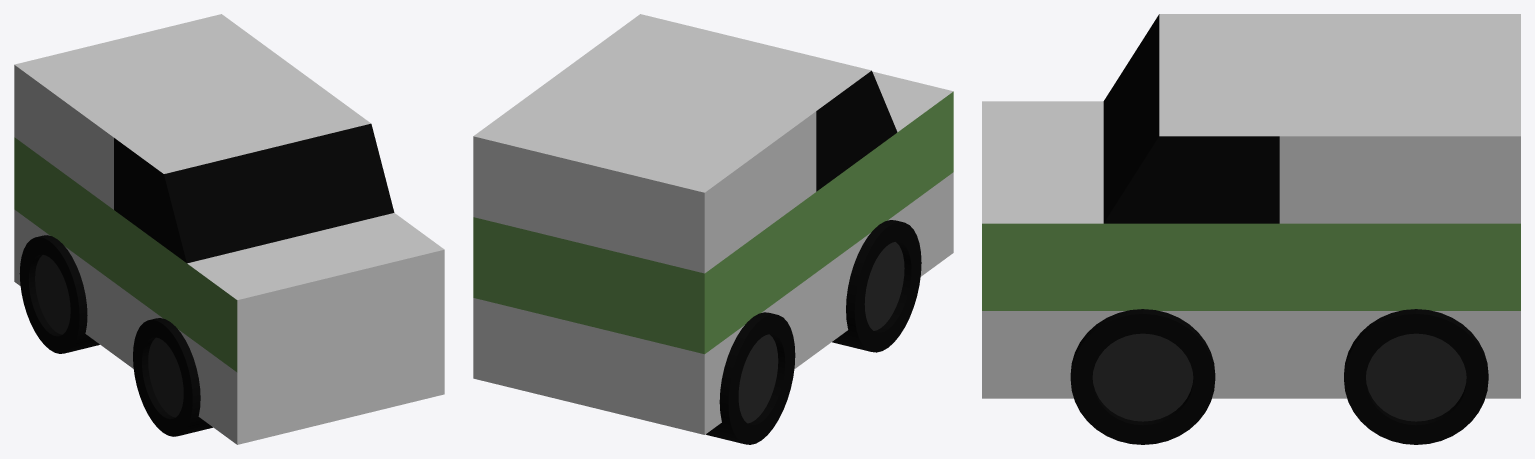
Rendered from truck 1.fbx.
3 views of the same model, side by side, from view 1: azimuth 30°, elevation 25°; view 2: azimuth 150°, elevation 25°; view 3: azimuth 270°, elevation 25° (orthographic). The views are drawn at different scales.
Visible parts, largest first — view 1: Cube, Cylinder_3, Cylinder_2; view 2: Cube, Cylinder_3, Cylinder_2; view 3: Cube, Cylinder, Cylinder_1.
Boxes of the visible parts, x1,y1,x2,y2 form: Cube: (14, 14, 444, 444); Cylinder_3: (133, 318, 212, 436); Cylinder_2: (19, 235, 99, 353); Cube: (473, 14, 953, 434); Cylinder_3: (832, 220, 921, 352); Cylinder_2: (706, 312, 795, 444); Cube: (982, 14, 1520, 398); Cylinder: (1344, 309, 1488, 444); Cylinder_1: (1070, 309, 1215, 444).
Bounding box in the file's own units: 215 × 232 × 372.
